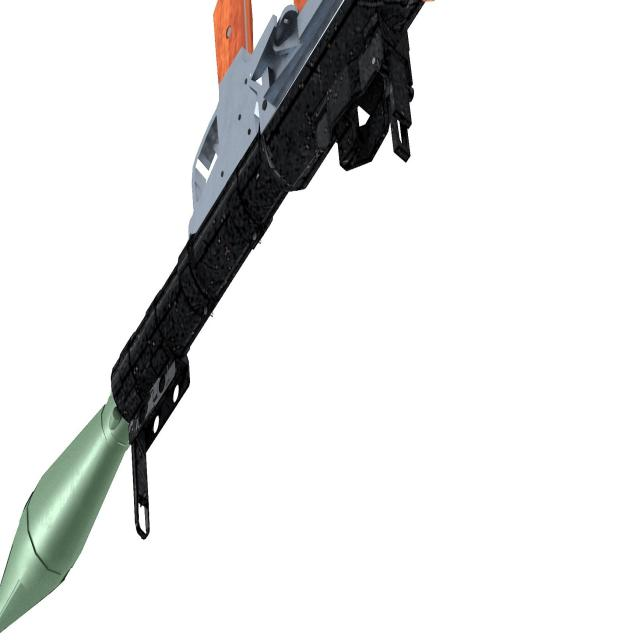Gun: (0, 0, 455, 640)
